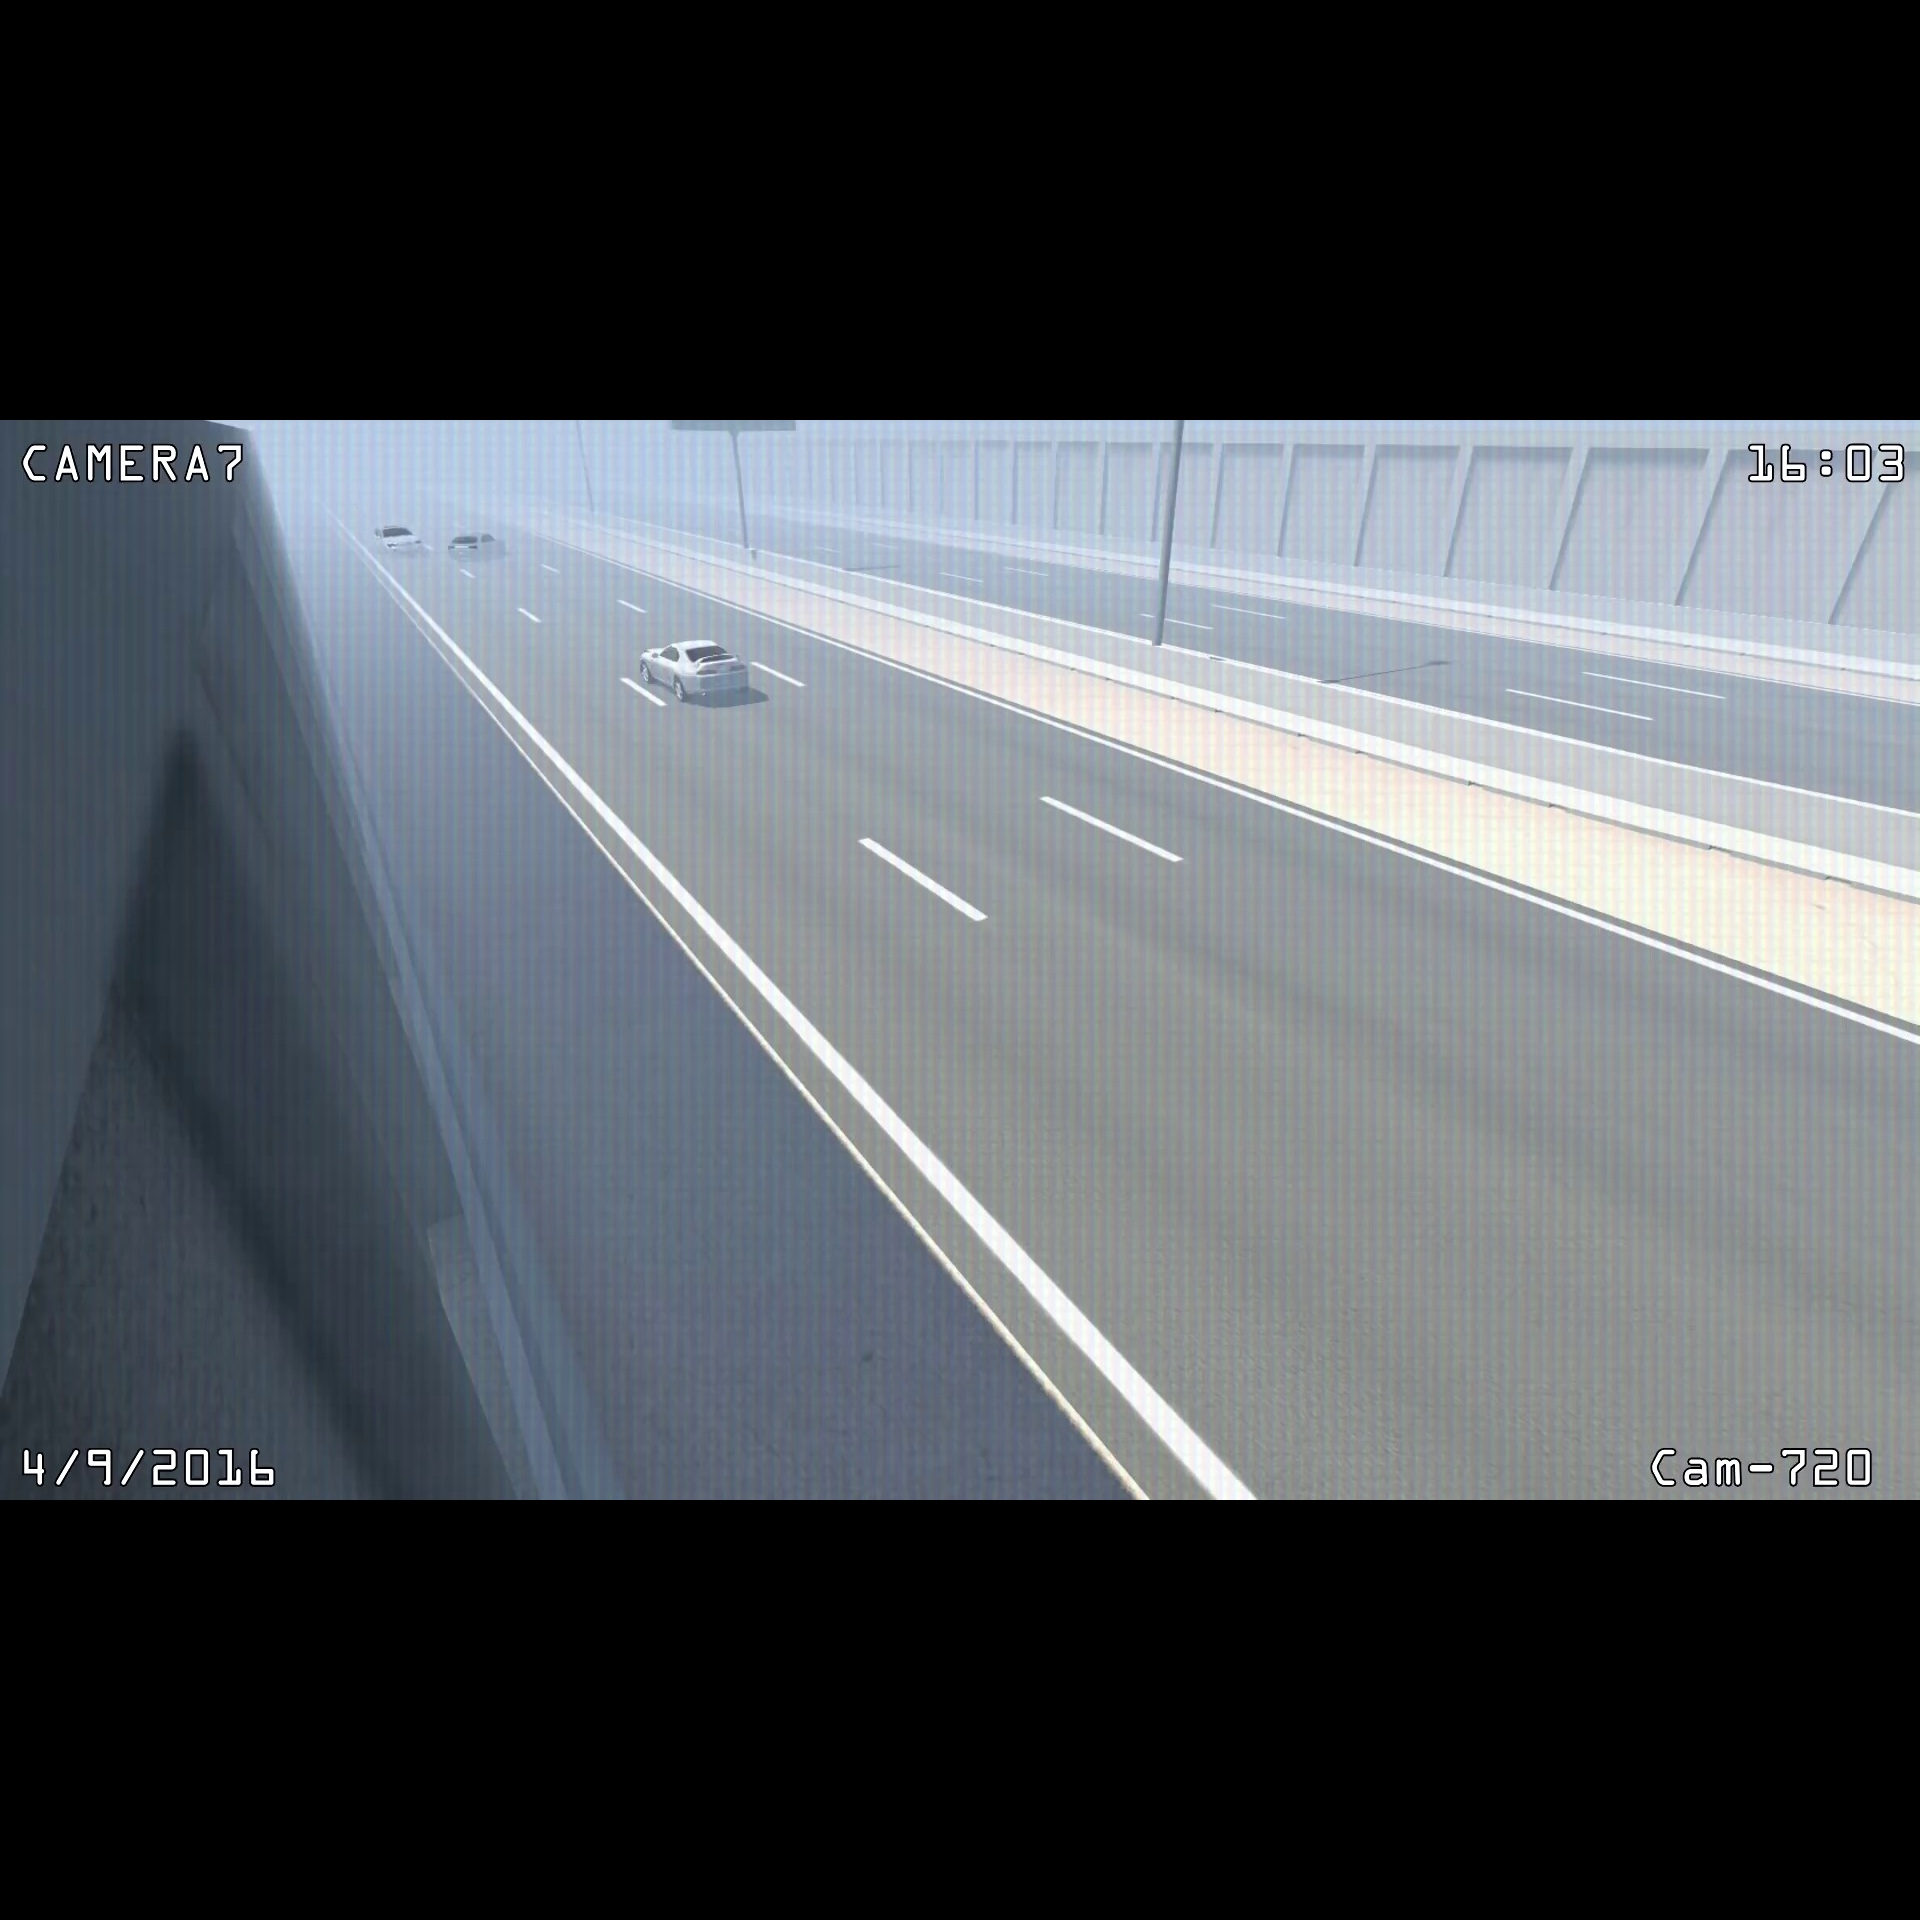vehicle: (635, 636, 767, 705), (445, 524, 512, 566), (366, 519, 427, 564)
